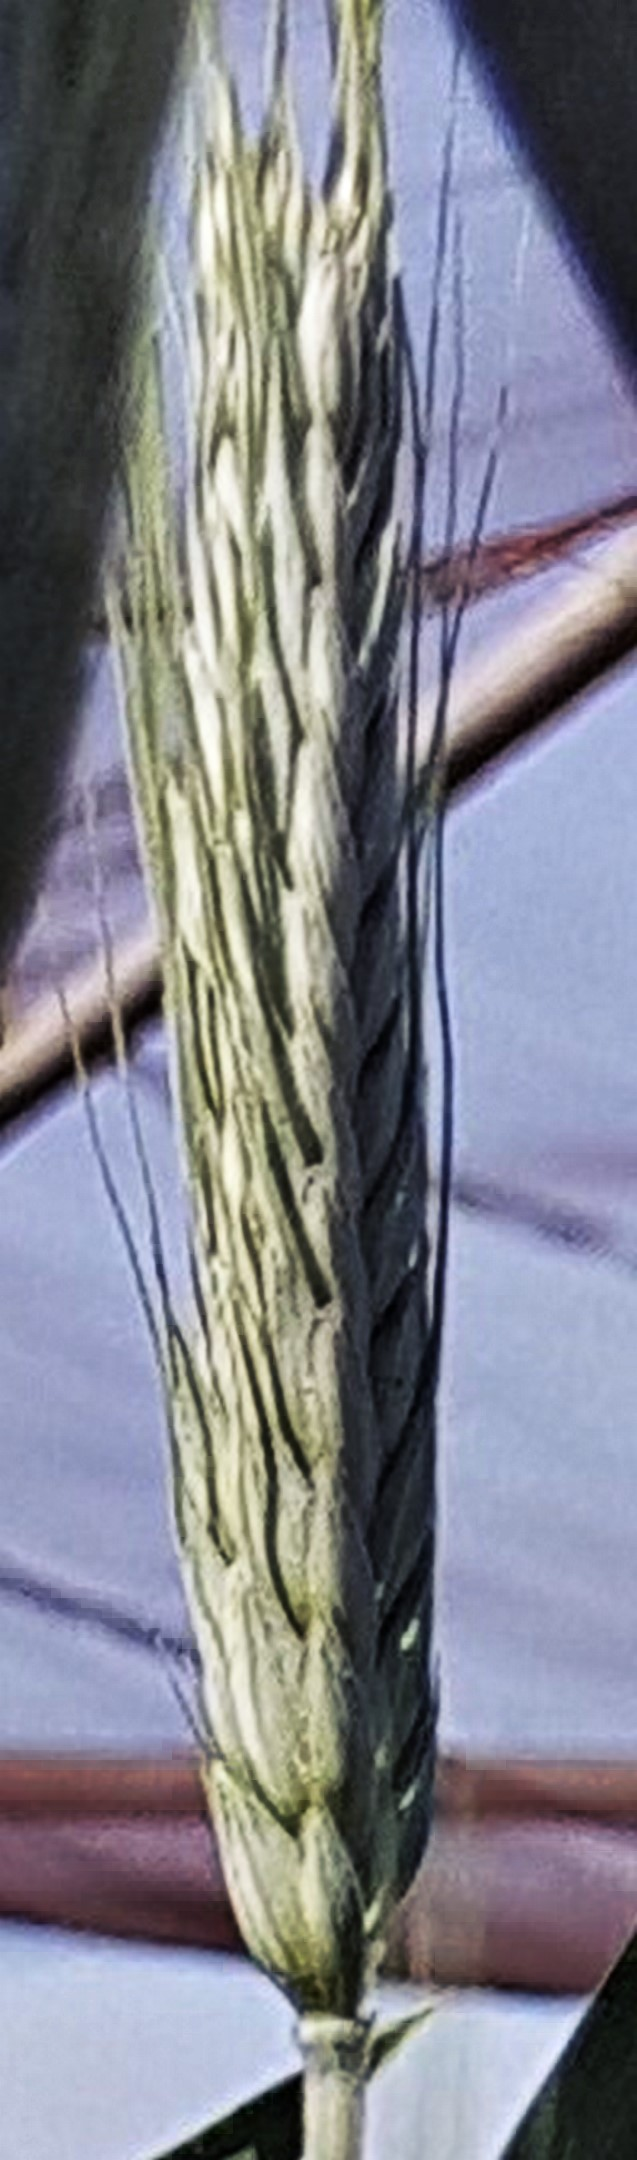Healthy Wheat: (68, 175, 503, 1991)
